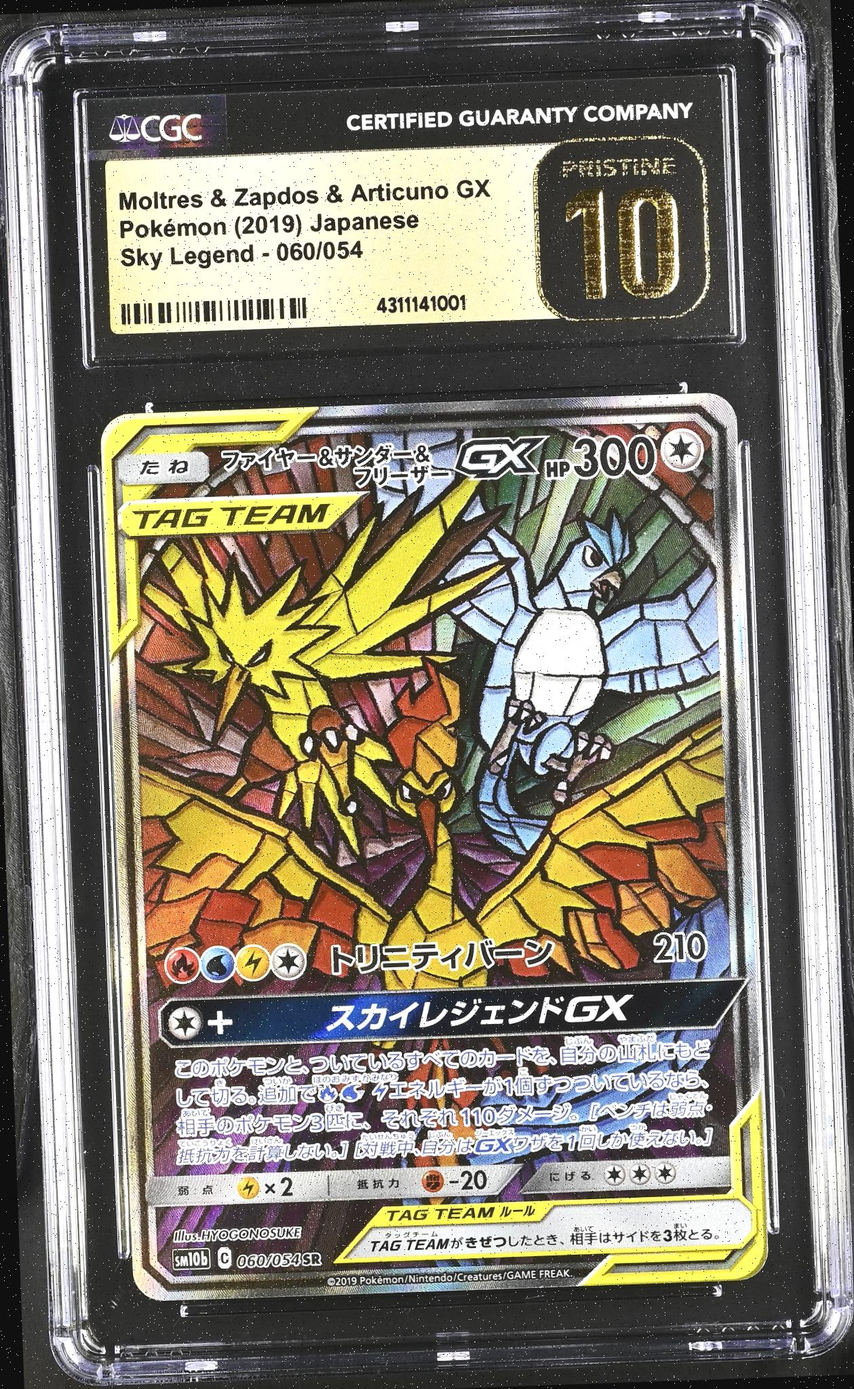card-2UtV: (100, 393, 769, 1301)
